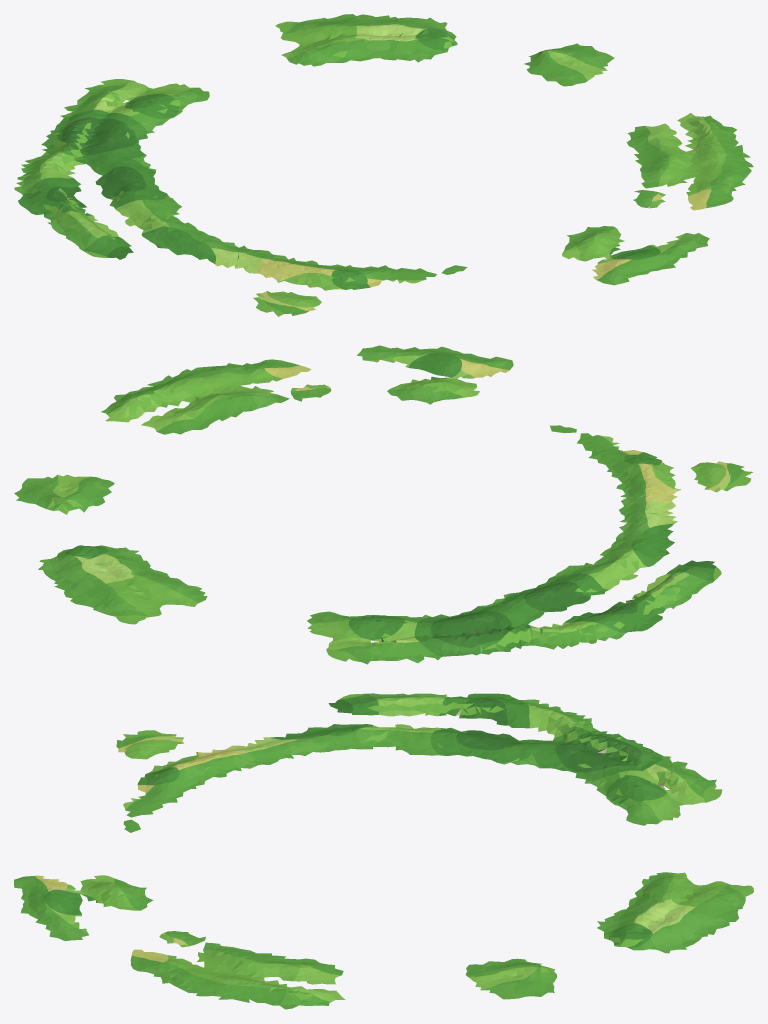
The model's file is Isl-atoll2-Relief.fbx.
3 renders of one model, top to bottom at view 1: azimuth 30°, elevation 25°; view 2: azimuth 150°, elevation 25°; view 3: azimuth 270°, elevation 25°, orthographic. The views are drawn at different scales.
Parts seen in each view (by area): view 1: Isl-atoll2-Relief-c12, Isl-atoll2-Relief-c21, Isl-atoll2-Relief-c22, Isl-atoll2-Relief-c11; view 2: Isl-atoll2-Relief-c12, Isl-atoll2-Relief-c21, Isl-atoll2-Relief-c22, Isl-atoll2-Relief-c11; view 3: Isl-atoll2-Relief-c12, Isl-atoll2-Relief-c21, Isl-atoll2-Relief-c22, Isl-atoll2-Relief-c11.
Boxes of the visible parts, x1,y1,x2,y2 form: Isl-atoll2-Relief-c12: (14,79,209,243); Isl-atoll2-Relief-c21: (562,113,753,285); Isl-atoll2-Relief-c22: (275,14,614,86); Isl-atoll2-Relief-c11: (75,216,467,316); Isl-atoll2-Relief-c12: (307,560,703,664); Isl-atoll2-Relief-c21: (101,345,513,434); Isl-atoll2-Relief-c22: (14,474,207,624); Isl-atoll2-Relief-c11: (550,425,753,587); Isl-atoll2-Relief-c12: (385,693,722,825); Isl-atoll2-Relief-c21: (14,875,345,1009); Isl-atoll2-Relief-c22: (465,872,753,999); Isl-atoll2-Relief-c11: (116,693,388,832).
Bounding box in the file's own units: 102 × 1.53 × 102.
